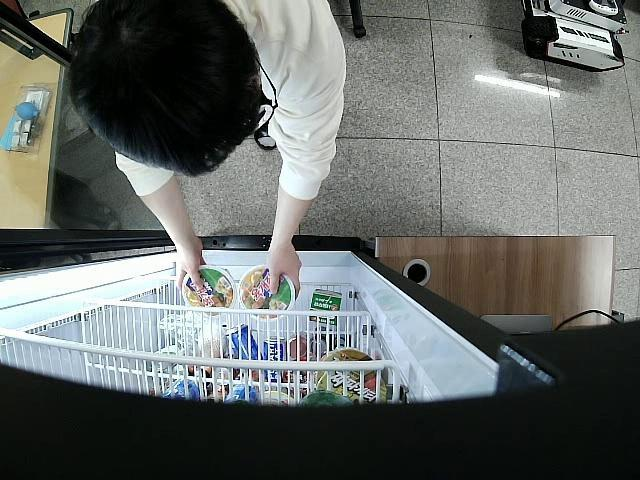09_yukGaeJang: (240, 265, 296, 320), (183, 266, 234, 318)
